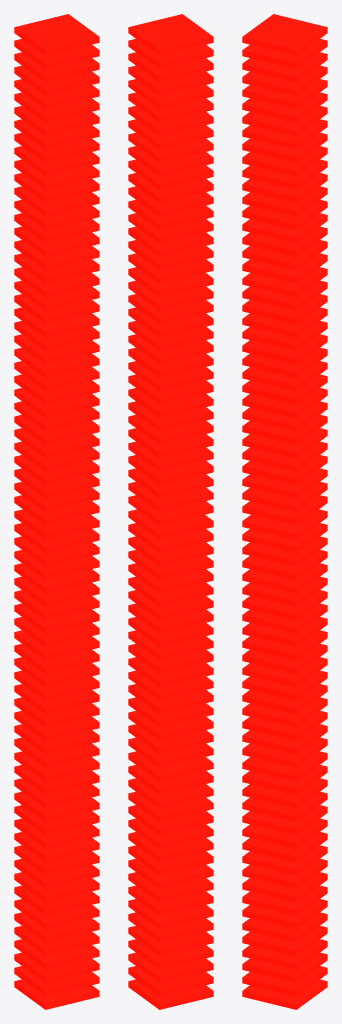
File: VRenvironment.fbx
The picture shows the model from 3 angles, left to right: view 1: azimuth 30°, elevation 25°; view 2: azimuth 210°, elevation 25°; view 3: azimuth 330°, elevation 25°; orthographic projection.
Parts seen in each view (by area): view 1: glowStack.001; view 2: glowStack.001; view 3: glowStack.001.
Boxes of the visible parts, x1,y1,x2,y2 form: glowStack.001: (14,14,99,1009); glowStack.001: (128,14,213,1009); glowStack.001: (242,14,327,1009).
Bounding box in the file's own units: 1693 × 28629 × 1693.
